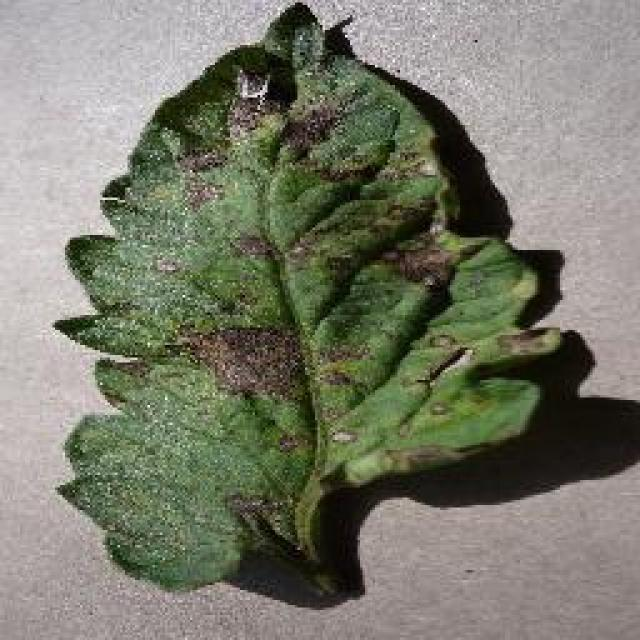Tomato Early blight leaf: (72, 23, 562, 595)
